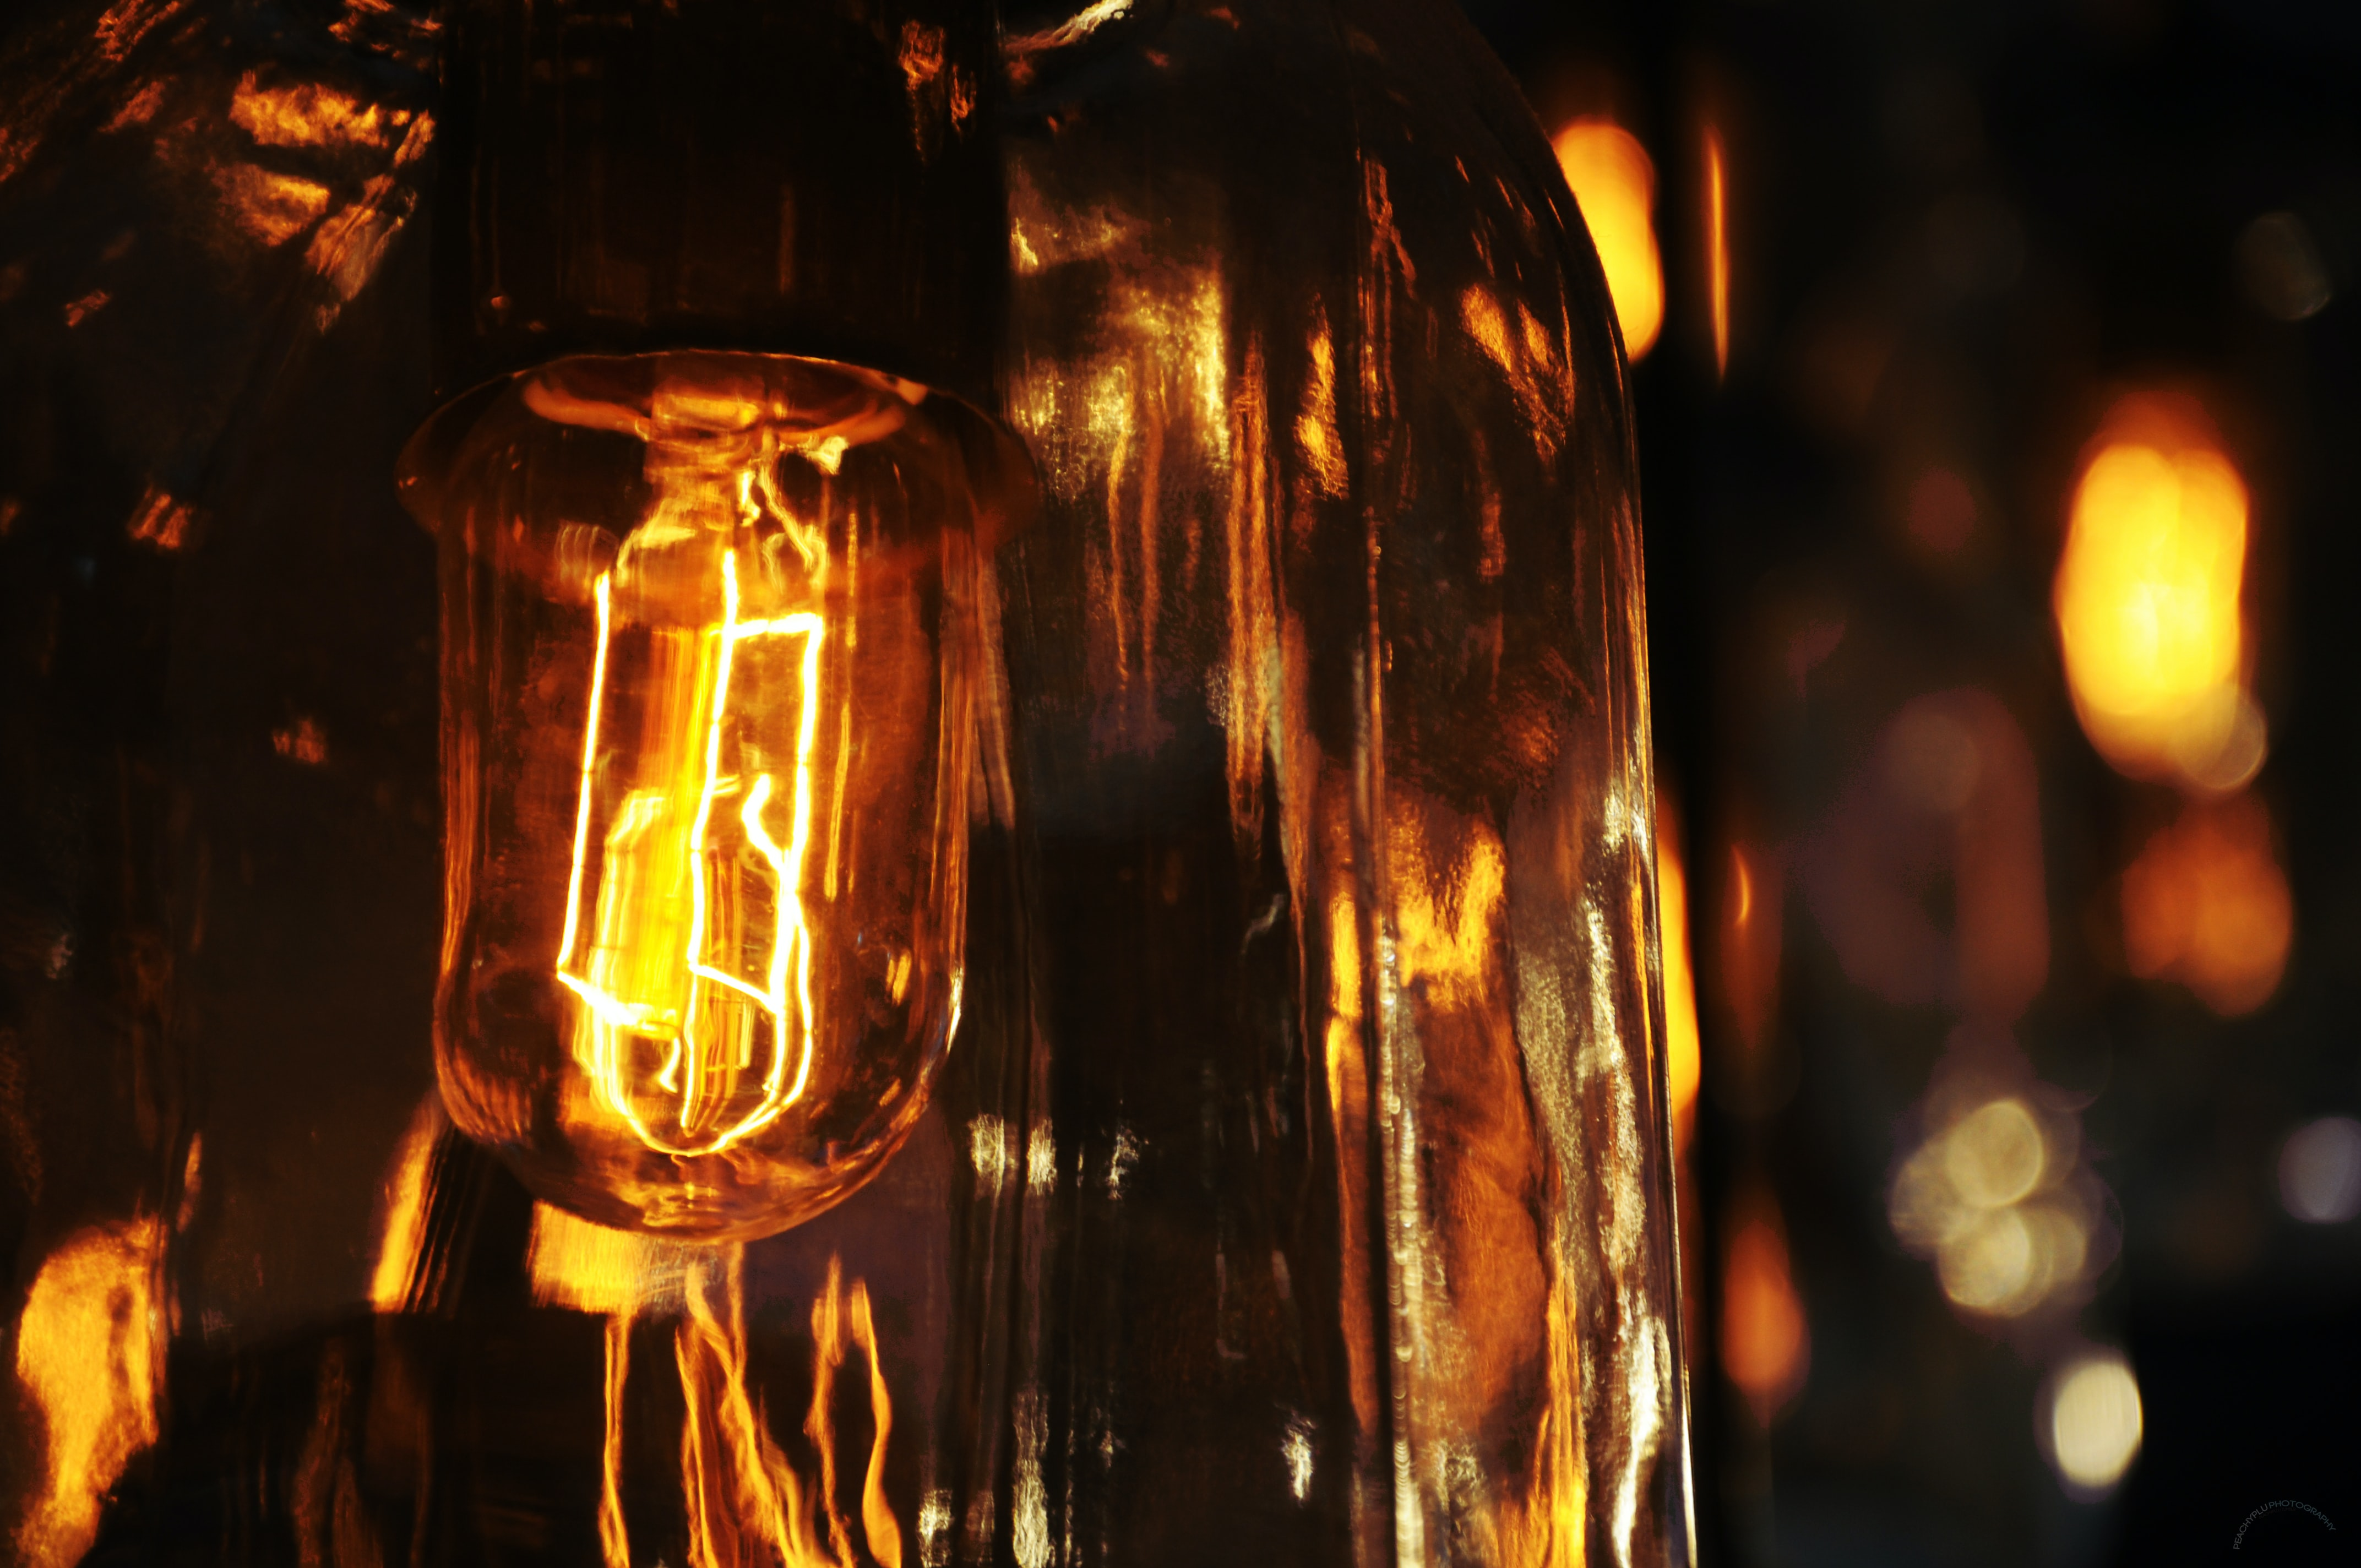bulb: (369, 44, 1153, 1260)
